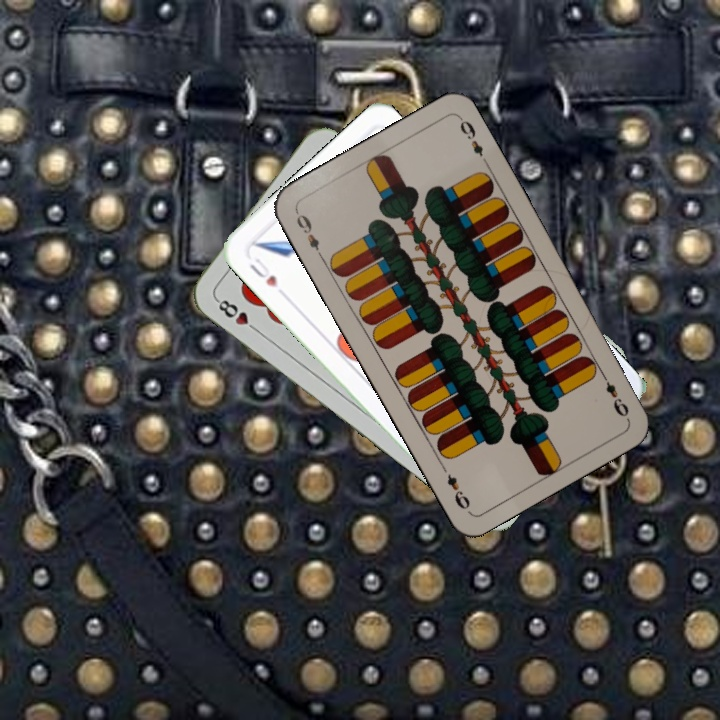E9: (291, 207, 326, 262), (596, 367, 632, 420)
H8: (212, 294, 262, 335)
HU: (245, 253, 280, 290)
